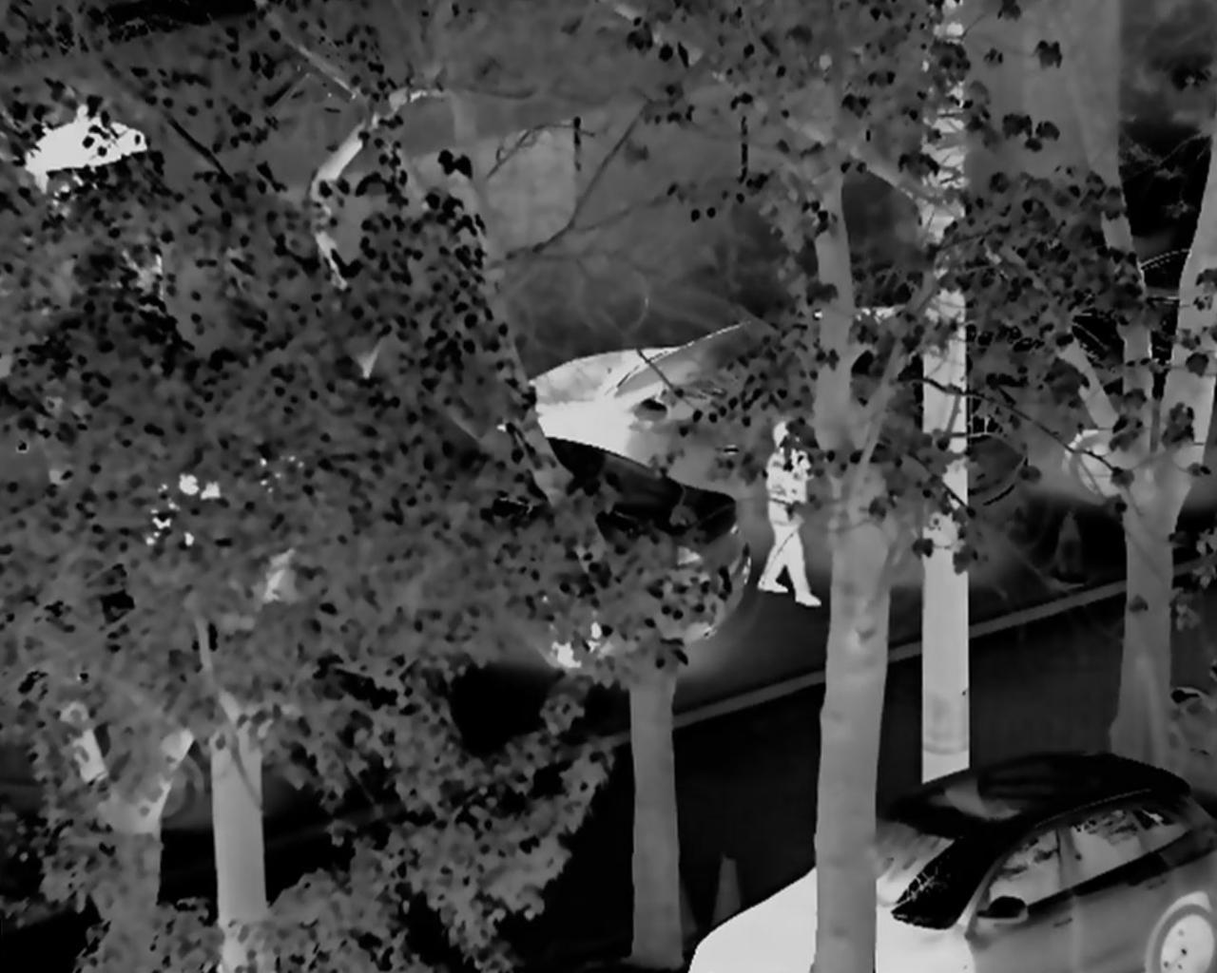person: (741, 424, 828, 608)
